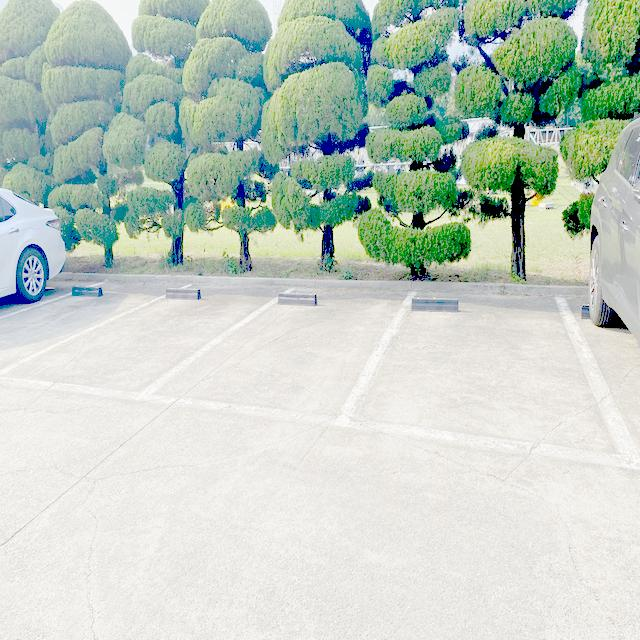empty: (328, 289, 640, 476), (118, 285, 420, 432), (0, 282, 304, 405)
